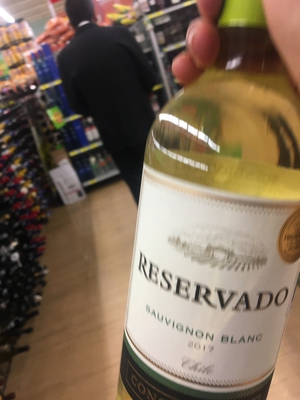reservado sauvignon blanc: (119, 75, 300, 388)
